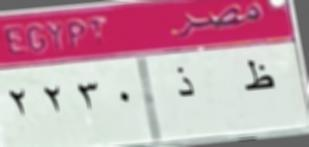0: (116, 85, 137, 110)
2: (7, 86, 31, 124), (42, 85, 65, 113)
3: (74, 80, 103, 116)
Thaa: (237, 58, 278, 96)
zaal: (172, 63, 200, 103)
